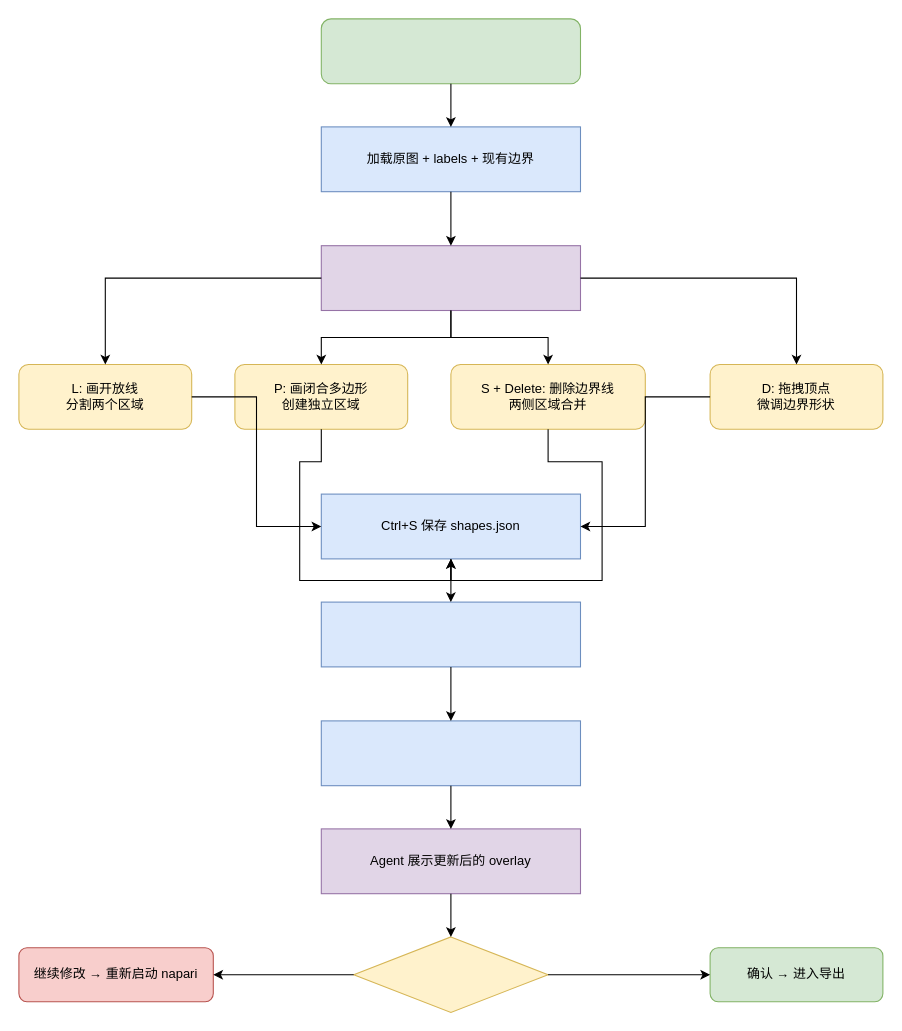
Image size: 902x1031. Some labels were removed from this diagram. The centre of each missing label's shape, as x and y in pixels:
Agent Bash 启动 napari_app 传入 labels.npz + panel.png: point 450,51
Agent 根据 shapes.json 重新计算 labels_edited.npz: point 450,753
关闭窗口 → napari 退出: point 450,634
用户确认 / 继续修改: point 450,974
用户编辑边界: point 450,277
